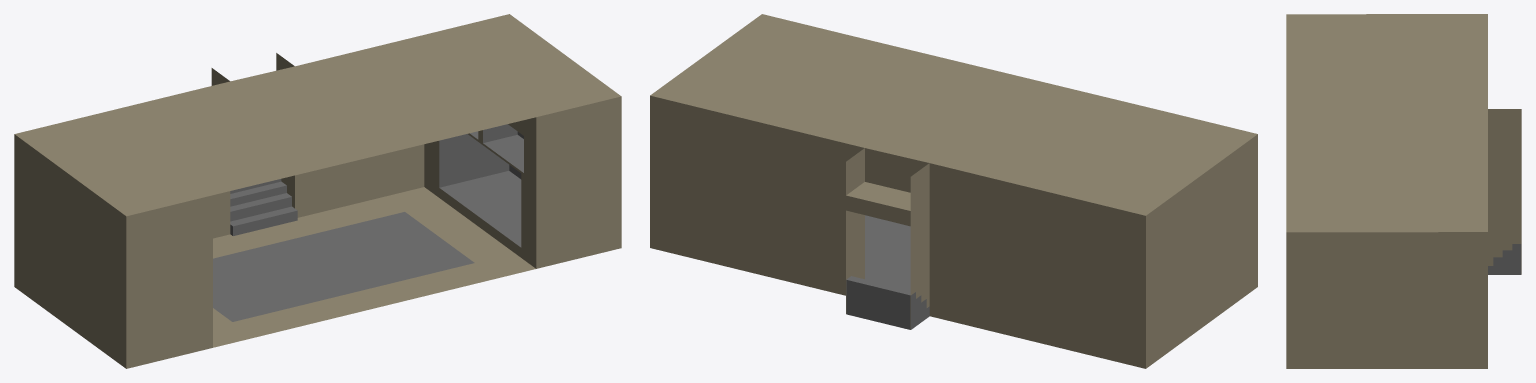
Rendered from CargoBayRoom.glb.
The picture shows the model from 3 angles, left to right: view 1: azimuth 30°, elevation 25°; view 2: azimuth 150°, elevation 25°; view 3: azimuth 270°, elevation 25°; orthographic projection. The views are drawn at different scales.
Visible parts, largest first — view 1: CargoBay; view 2: CargoBay; view 3: CargoBay.
Part boxes in pixels (x1,y1,x2,y2): CargoBay: (14, 14, 621, 368); CargoBay: (650, 14, 1257, 368); CargoBay: (1286, 14, 1521, 368).
Size of the model in its own units: 15.32 by 4.53 by 7.01.
